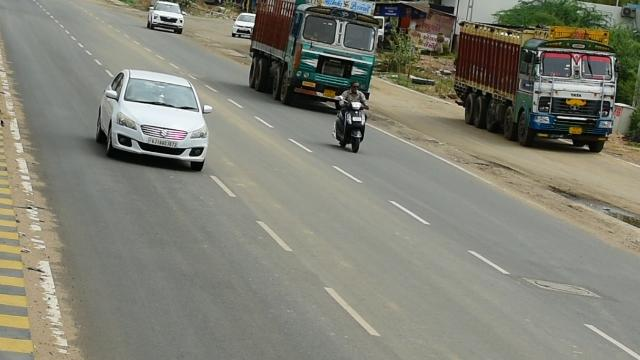Without Helmet: (351, 80, 359, 93)
